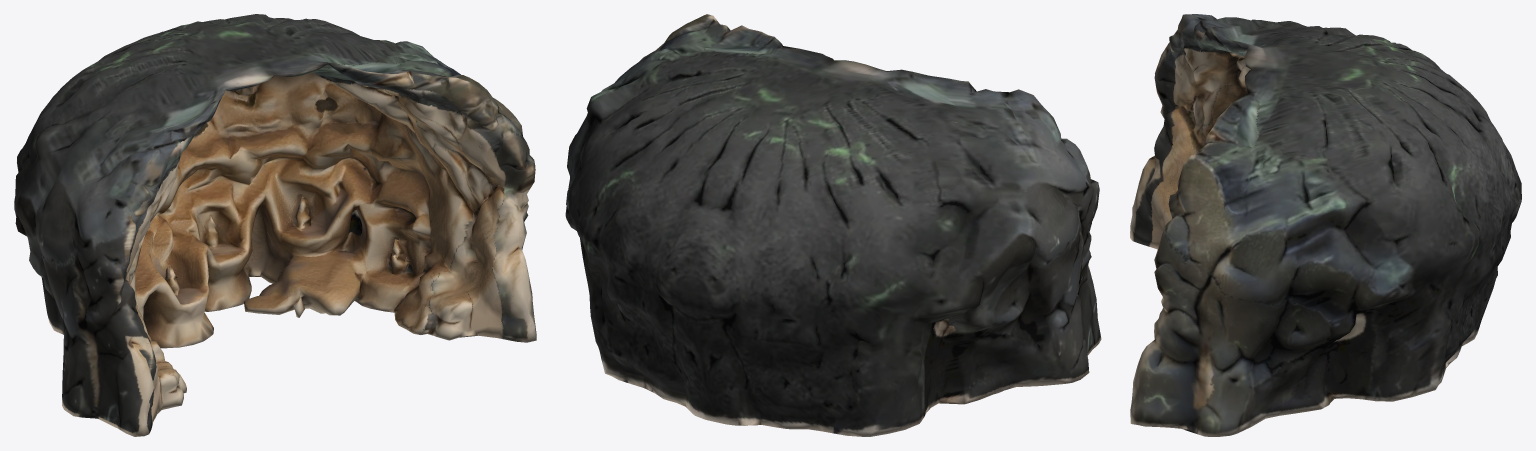
The model's file is room_dome-web.glb.
3 views of the same model, side by side, from view 1: azimuth 30°, elevation 25°; view 2: azimuth 150°, elevation 25°; view 3: azimuth 270°, elevation 25° (orthographic). The views are drawn at different scales.
Bounding box in the file's own units: 2 × 1.14 × 1.54.
Materials: 1 (1 with a texture image).
